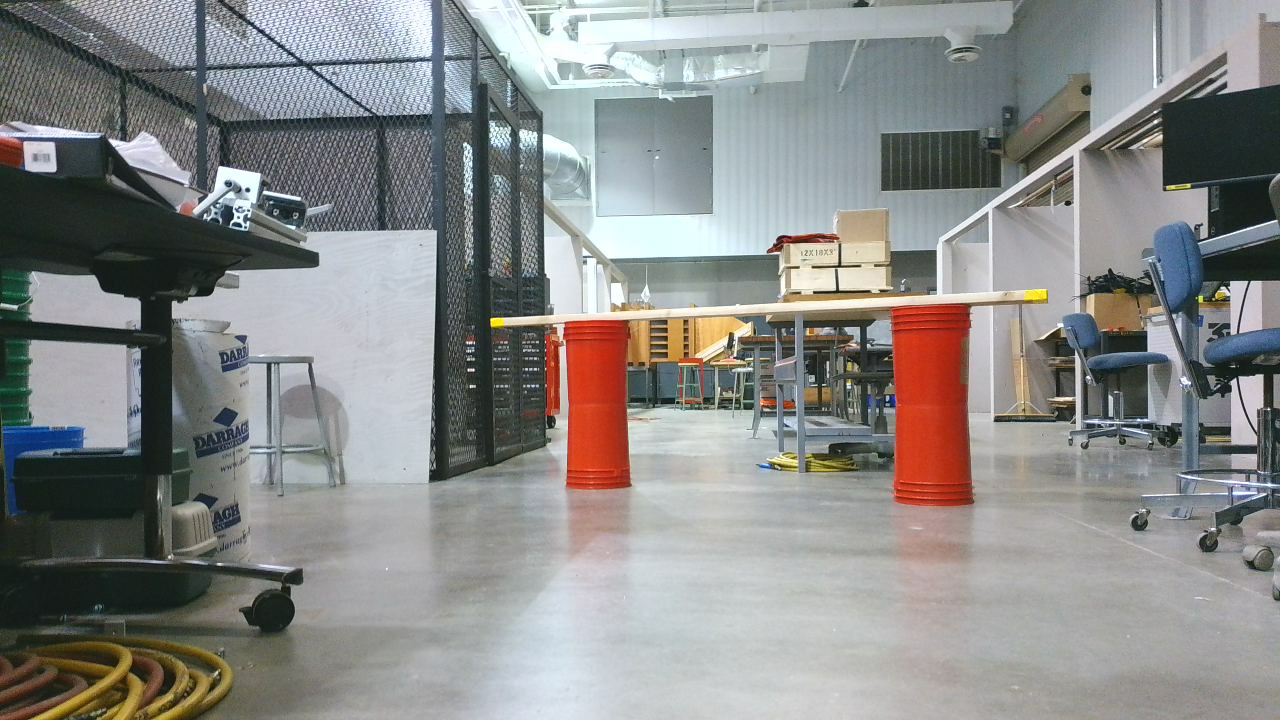red_bucket_arch: (505, 288, 1044, 511)
